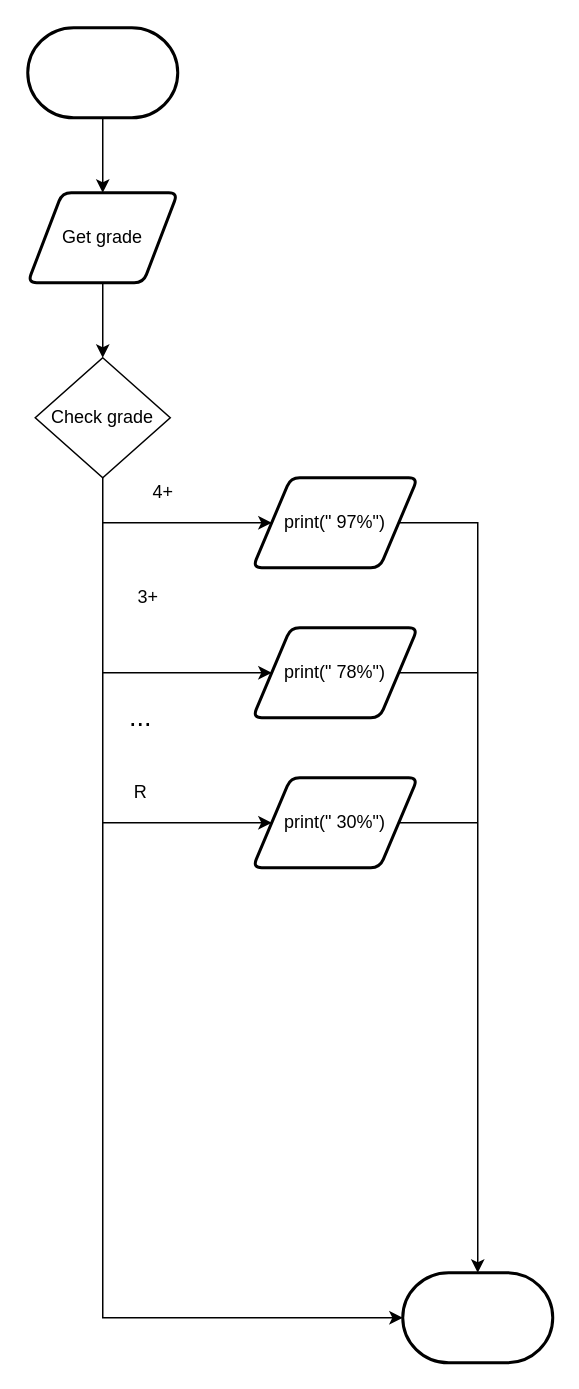
Some shapes in this 579 by 1389 pixel diagram are drawn without their labels. The shapes that lost their labels are listed below. From the top down, each one's centre as x and y in pixels, then its label:
At (x=102, y=72): "Start".
At (x=477, y=1317): "Stop".
